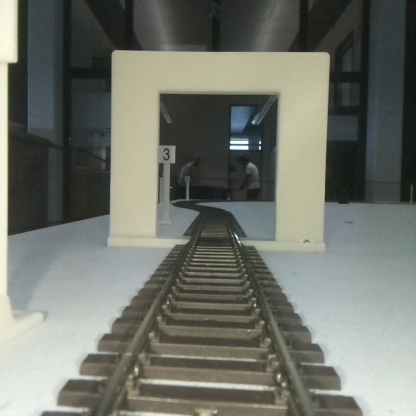white-info-3: (158, 146, 175, 225)
